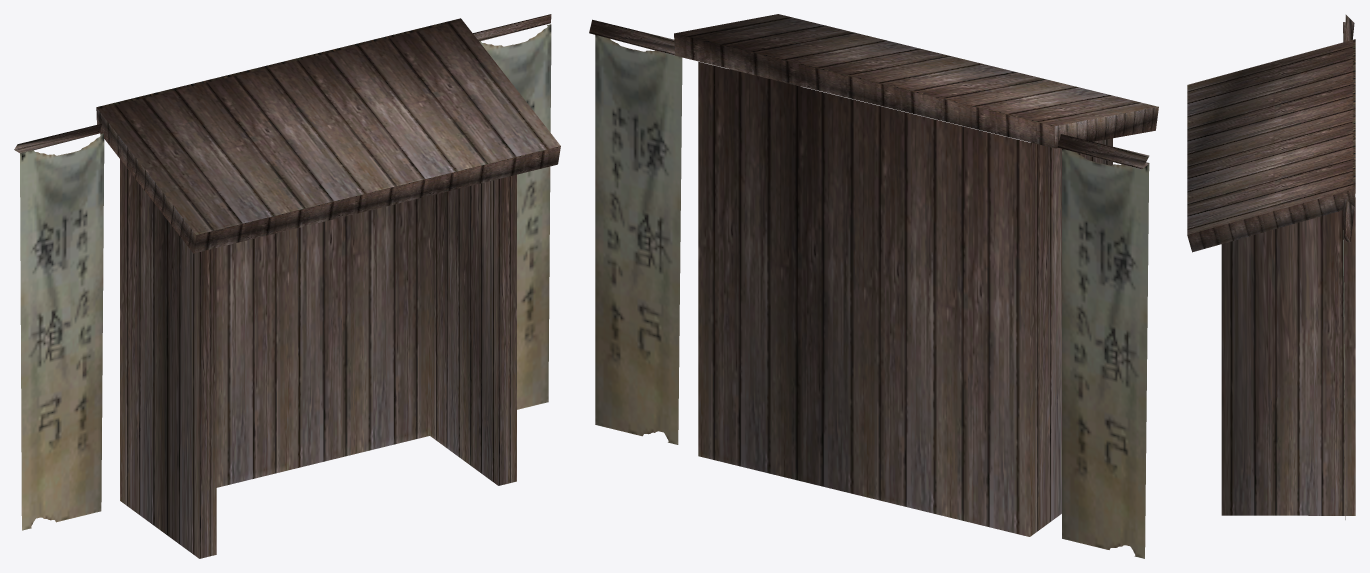
File: cj_weap_sign.glb
3 views of the same model, side by side, from view 1: azimuth 30°, elevation 25°; view 2: azimuth 150°, elevation 25°; view 3: azimuth 270°, elevation 25° (orthographic). The views are drawn at different scales.
Visible parts, largest first — view 1: CJ_weap_sign, CJ_weap_sign_1; view 2: CJ_weap_sign, CJ_weap_sign_1; view 3: CJ_weap_sign, CJ_weap_sign_1.
Part boxes in pixels (x1=…): CJ_weap_sign: x1=96, y1=14, x2=560, y2=558; CJ_weap_sign_1: x1=14, y1=24, x2=551, y2=530; CJ_weap_sign: x1=674, y1=14, x2=1158, y2=536; CJ_weap_sign_1: x1=589, y1=19, x2=1149, y2=558; CJ_weap_sign: x1=1187, y1=39, x2=1355, y2=515; CJ_weap_sign_1: x1=1343, y1=14, x2=1354, y2=519.
Bounding box in the file's own units: 4.36 × 3.12 × 1.42.
2 materials, 2 textured.
